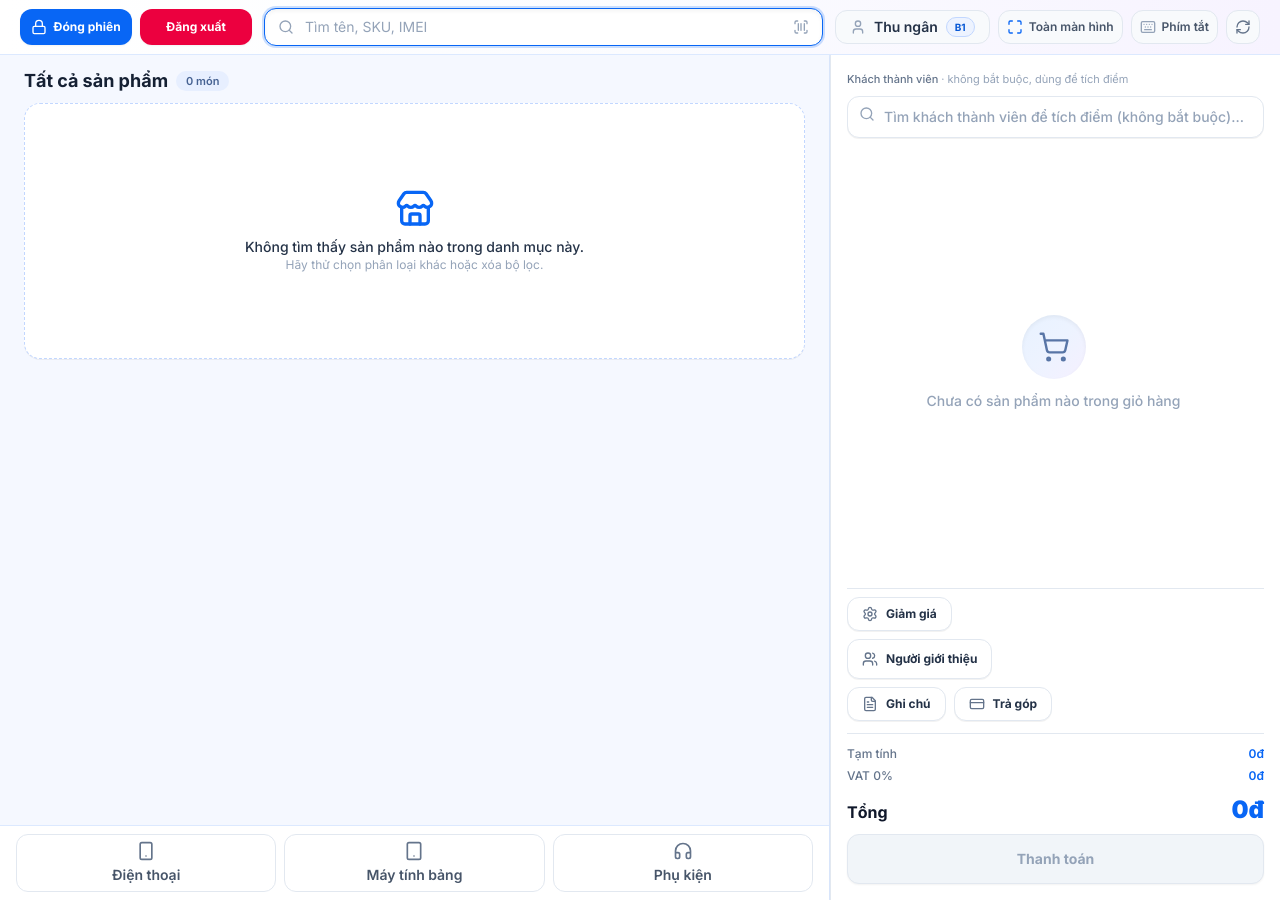
Test: RetailPosPage › adds a search result on Enter without treating the text as a barcode
Type "ÁO" into the field named "Tìm hoặc quét sản phẩm" at (543, 27), box [264,8,823,46]
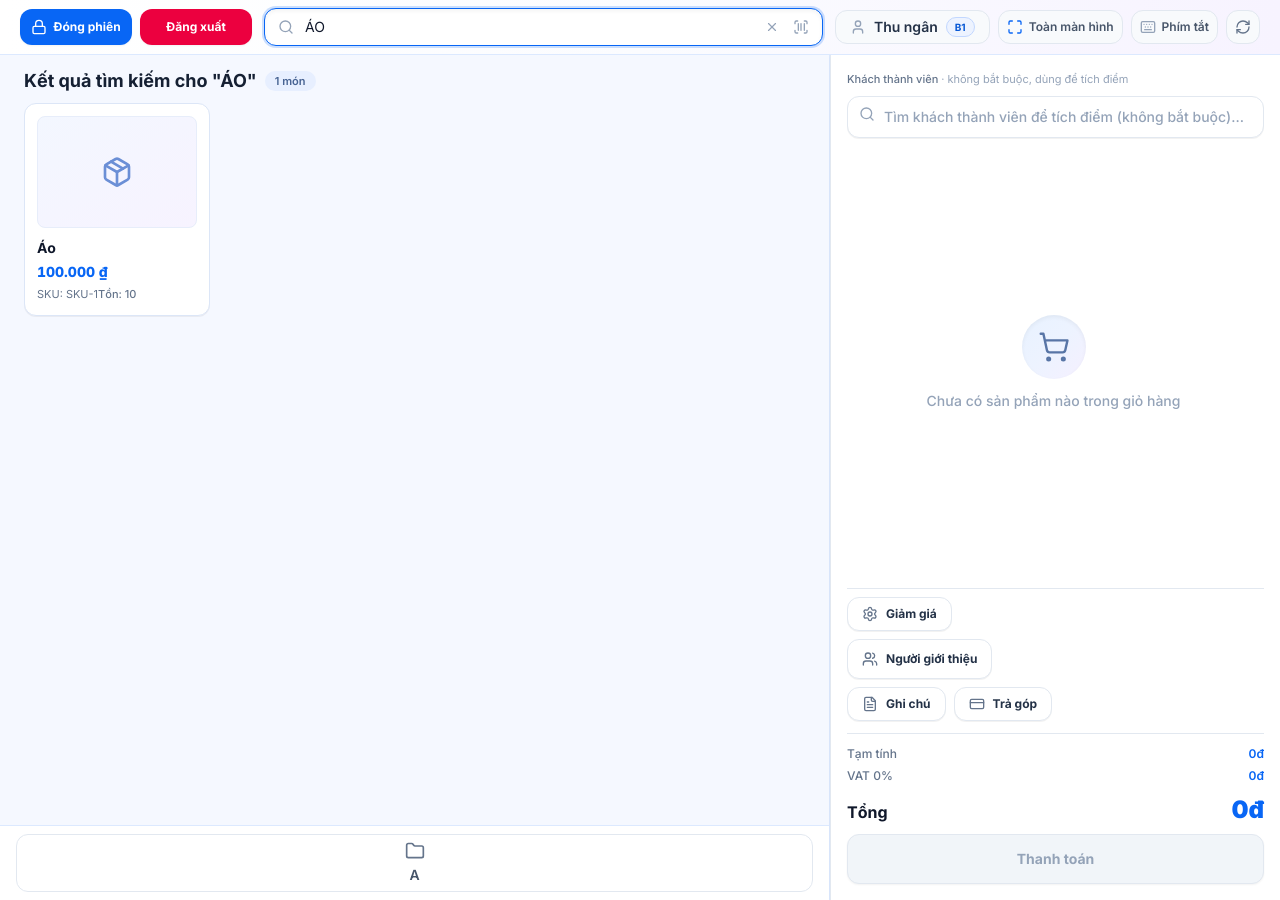
Check: the button with aria-label "Áo SKU:" is shown, box [37,116,197,302]
Press Enter
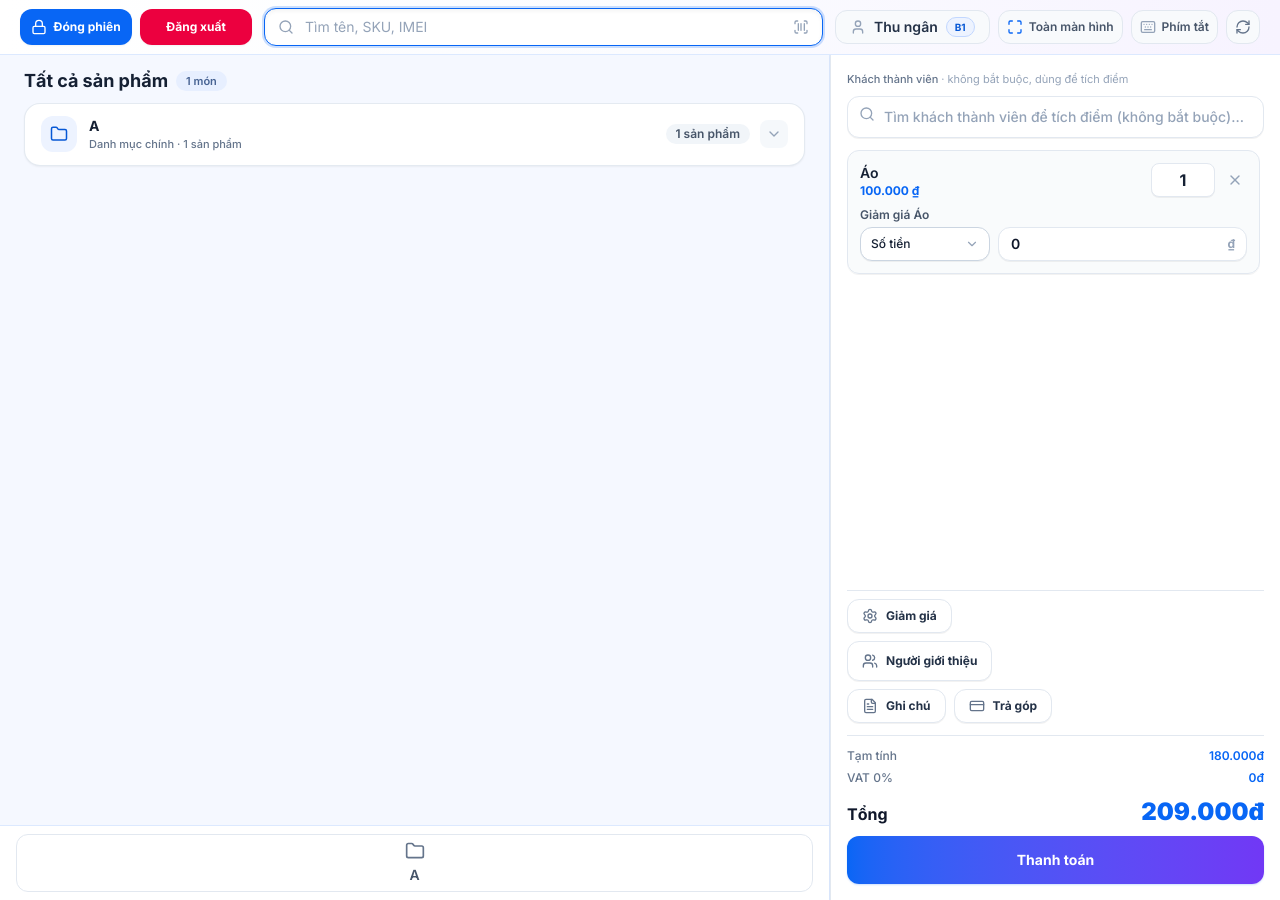
Check: the number field named "Số lượng Áo" holds "1", box [1151,162,1215,196]
